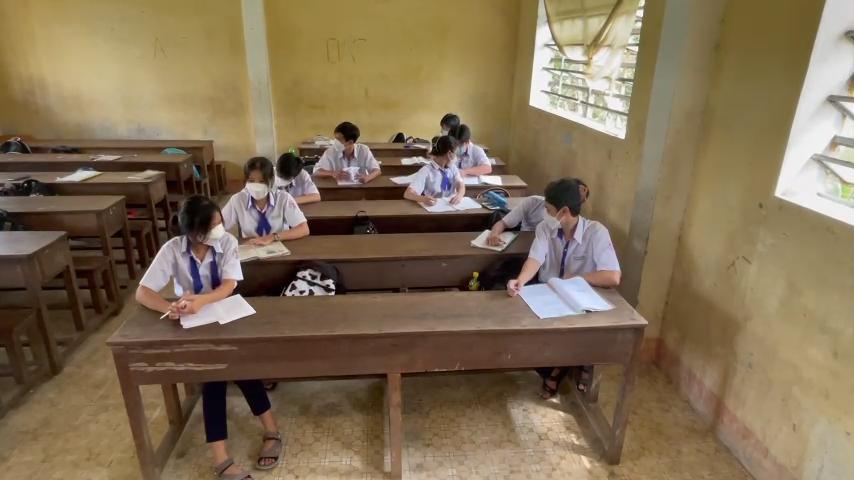Look Around: (166, 189, 229, 246), (528, 174, 590, 230), (316, 107, 366, 158), (418, 127, 468, 178)
